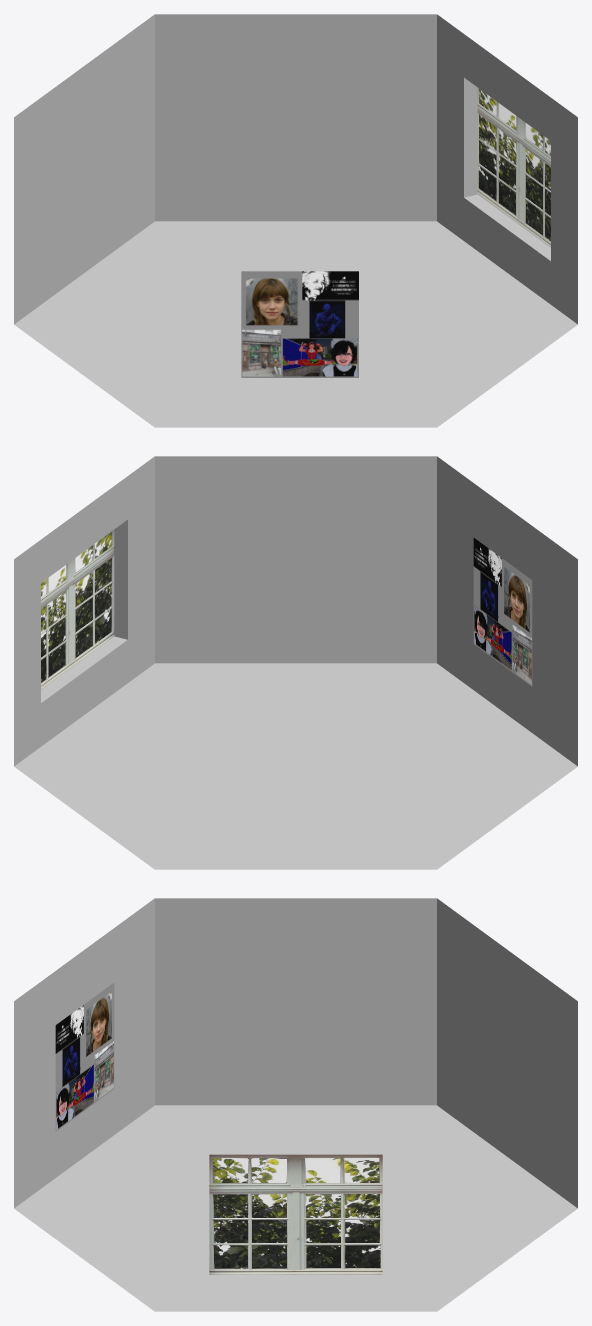
Rendered from gallery.glb.
3 renders of one model, top to bottom at view 1: azimuth 30°, elevation 25°; view 2: azimuth 150°, elevation 25°; view 3: azimuth 270°, elevation 25°, orthographic.
Visible parts, largest first — view 1: Walls, a; view 2: Walls, a; view 3: Walls, a.
Part boxes in pixels (x1,y1,x2,y2): Walls: (14, 14, 577, 427); a: (241, 271, 358, 377); Walls: (14, 456, 577, 869); a: (473, 538, 532, 686); Walls: (14, 898, 577, 1311); a: (55, 982, 114, 1131).
Size of the model in its own units: 8.97 by 4.07 by 10.03.
Materials: 3 (2 with a texture image).
